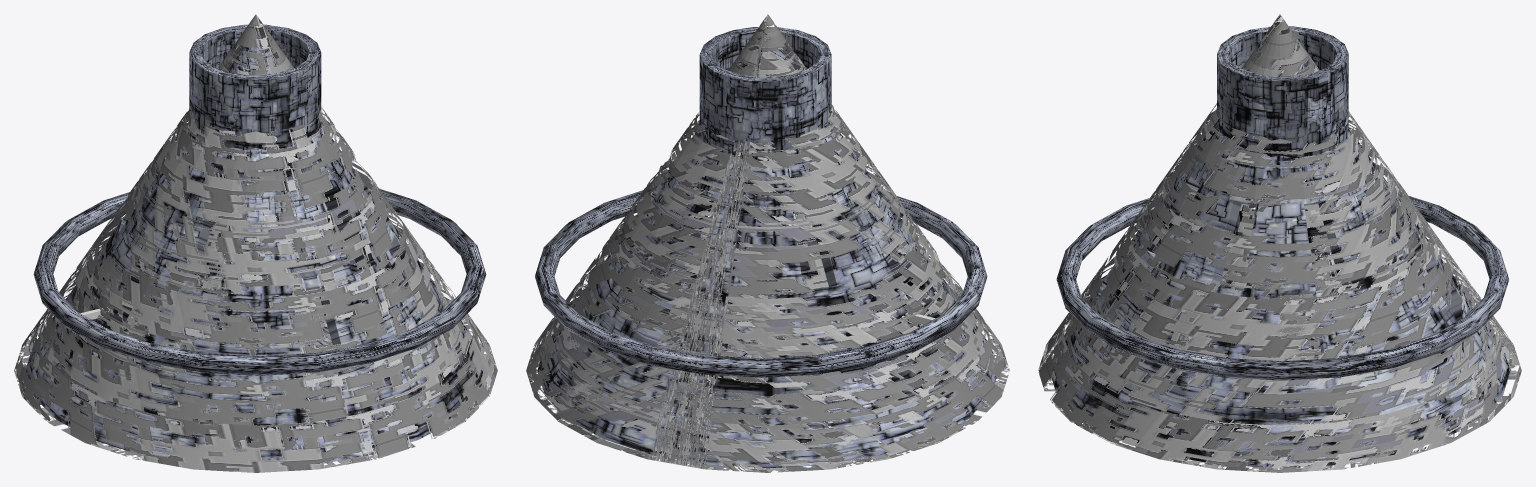
Rendered from 15ds28ghfk37.FBX.
3 renders of one model, left to right at view 1: azimuth 30°, elevation 25°; view 2: azimuth 150°, elevation 25°; view 3: azimuth 270°, elevation 25°, orthographic.
Visible parts, largest first — view 1: Cone002, Cone001, Torus001, Tube001; view 2: Cone002, Cone001, Torus001, Tube001; view 3: Cone002, Cone001, Torus001, Tube001.
Part boxes in pixels (box(x1,y1,x2,y2)): Cone002: box(14, 14, 497, 472); Cone001: box(25, 32, 482, 465); Torus001: box(33, 187, 486, 375); Tube001: box(189, 24, 321, 149); Cone002: box(526, 14, 1009, 472); Cone001: box(537, 33, 996, 468); Torus001: box(535, 189, 987, 377); Tube001: box(699, 27, 831, 172); Cone002: box(1038, 14, 1521, 472); Cone001: box(1051, 31, 1510, 468); Torus001: box(1056, 193, 1508, 380); Tube001: box(1217, 26, 1348, 157).
Size of the model in its own units: 63.61 by 51.76 by 63.61.
Materials: 2 (2 with a texture image).
